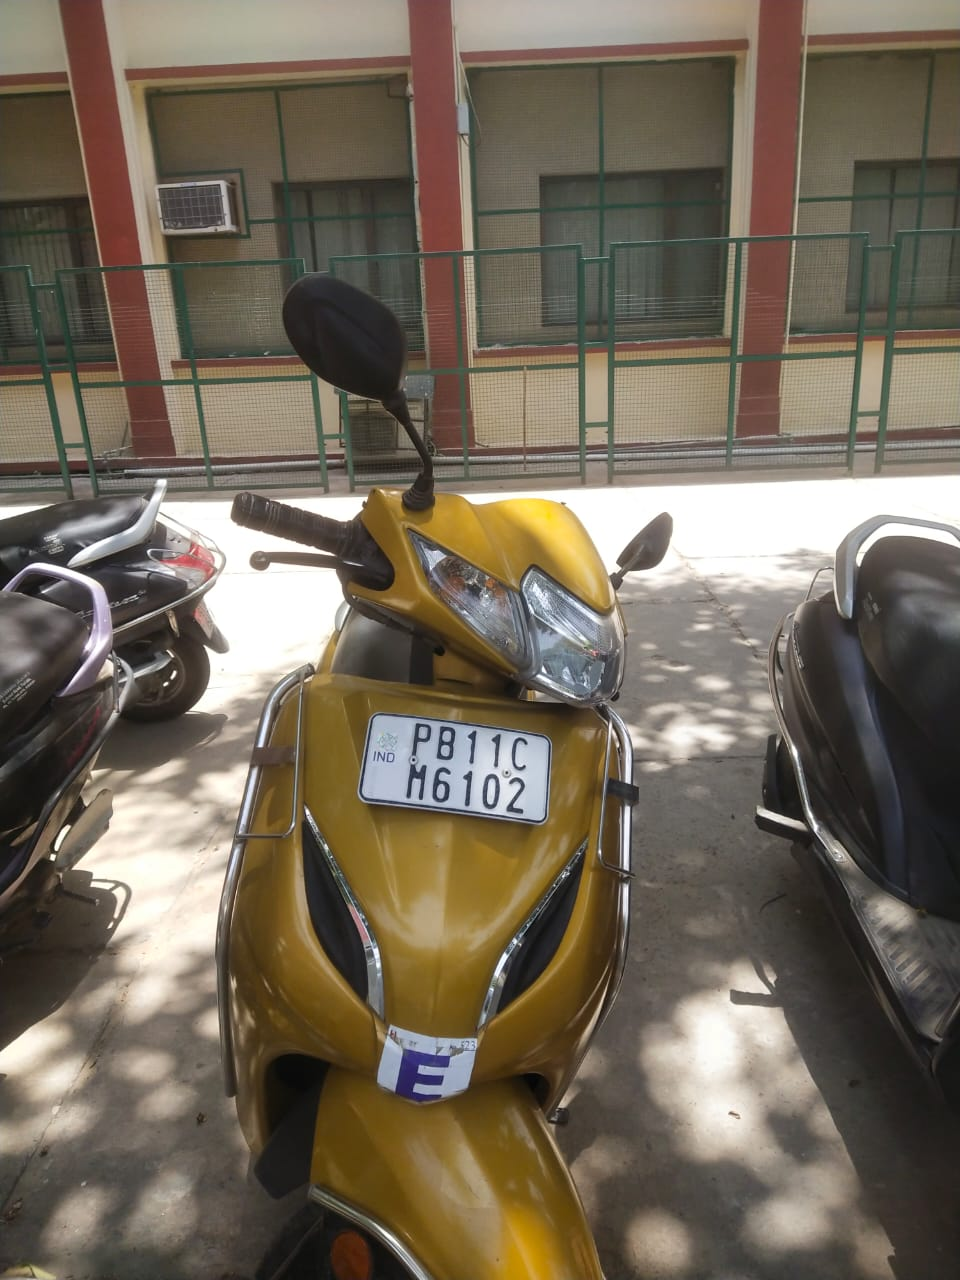license plate: (359, 713, 550, 823)
